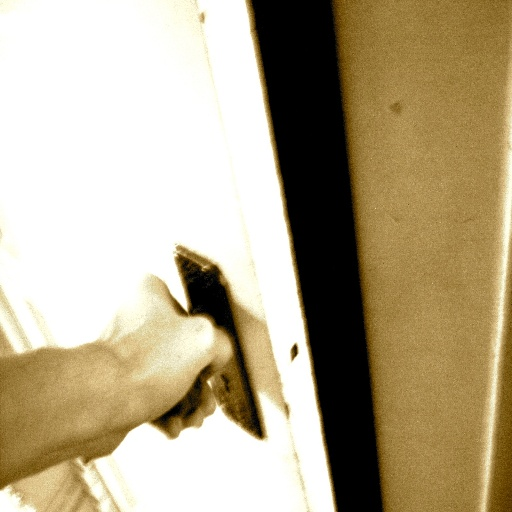hand: (24, 252, 241, 474)
